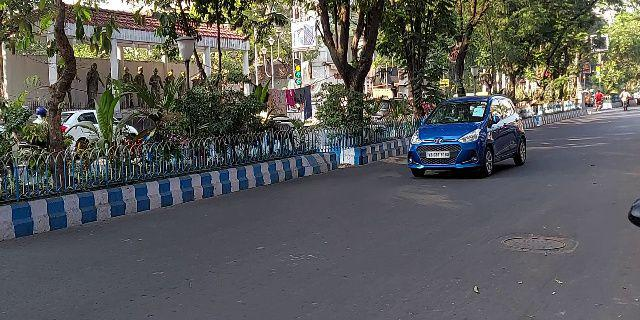Car: (404, 93, 528, 177)
